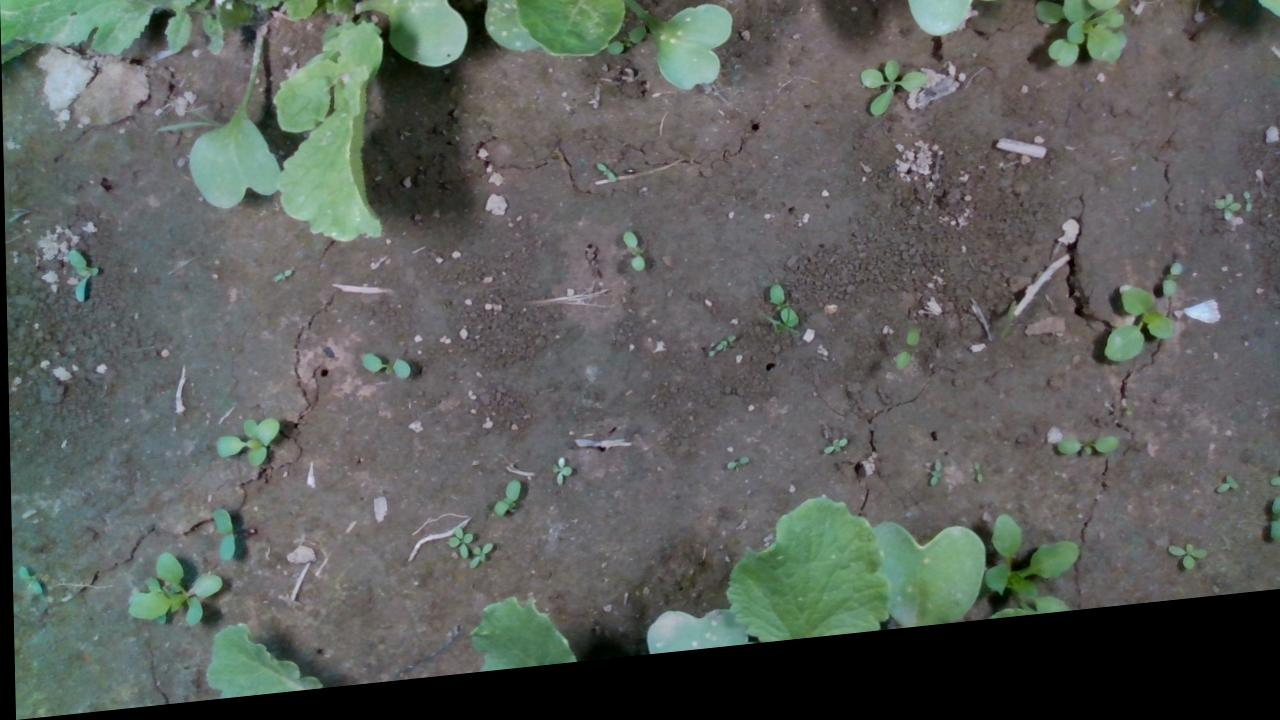weed: (855, 74, 931, 138), (210, 420, 280, 476), (356, 354, 411, 393), (64, 245, 97, 305), (1049, 456, 1117, 482), (205, 510, 235, 568), (889, 339, 920, 392), (1161, 564, 1205, 597), (614, 242, 646, 287), (10, 559, 44, 599), (1210, 215, 1241, 253), (1156, 285, 1182, 323), (548, 466, 571, 498), (593, 171, 618, 199), (1209, 498, 1238, 520), (816, 452, 846, 473), (1237, 213, 1254, 244), (921, 478, 940, 504), (720, 471, 747, 486)
